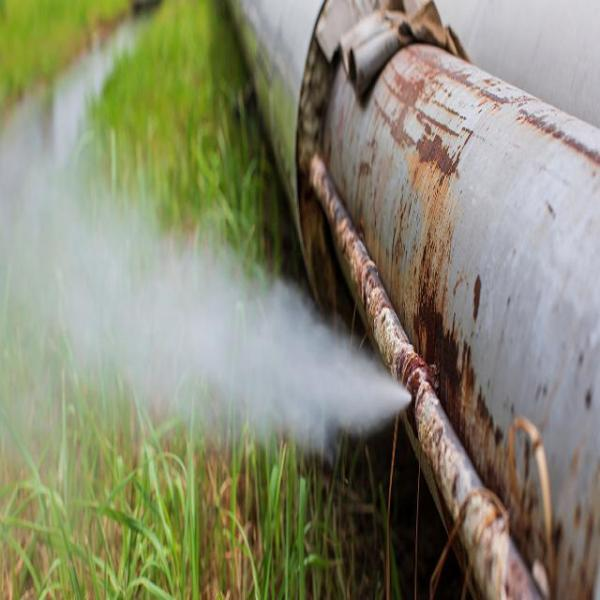gas: (338, 330, 484, 464)
